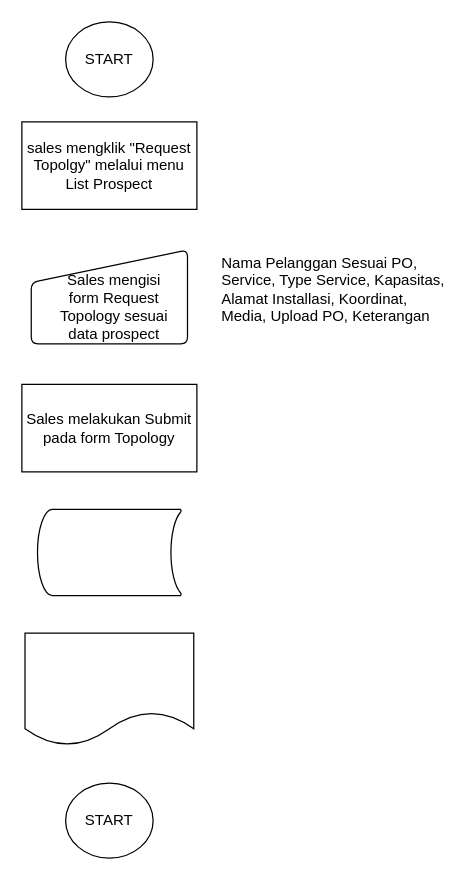
Some shapes in this 475 by 880 pixel diagram are drawn without their labels. The shapes that lost their labels are listed below. From the top down, each one's box as (x1, y1, x2, y2) in pixels, then its label:
(36, 508, 181, 596): data tersimpan di List Request Topology
(24, 632, 194, 746): Presales menerima email notifikasi sesuai dengan segmennya masing-masing
